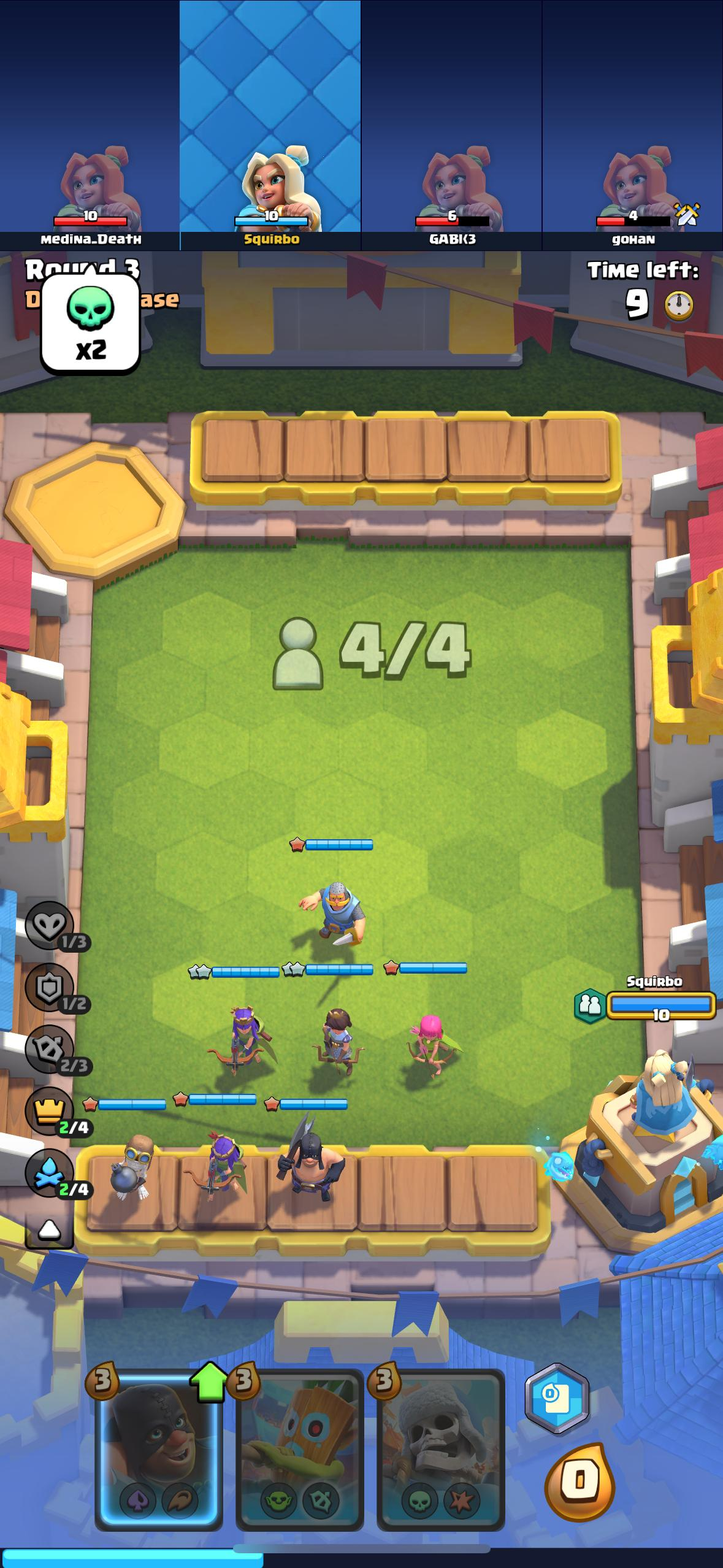archer: (400, 1006, 461, 1079)
bomber: (101, 1130, 163, 1206)
executioner: (273, 1112, 347, 1206)
hand-dart: (235, 1367, 362, 1530)
hand-executioner: (100, 1375, 215, 1521)
hand-giant: (376, 1373, 505, 1530)
knight: (301, 875, 370, 954)
princess: (307, 999, 370, 1078)
queen: (188, 1121, 251, 1204), (216, 999, 279, 1077)
upgrade: (190, 1360, 226, 1403)
